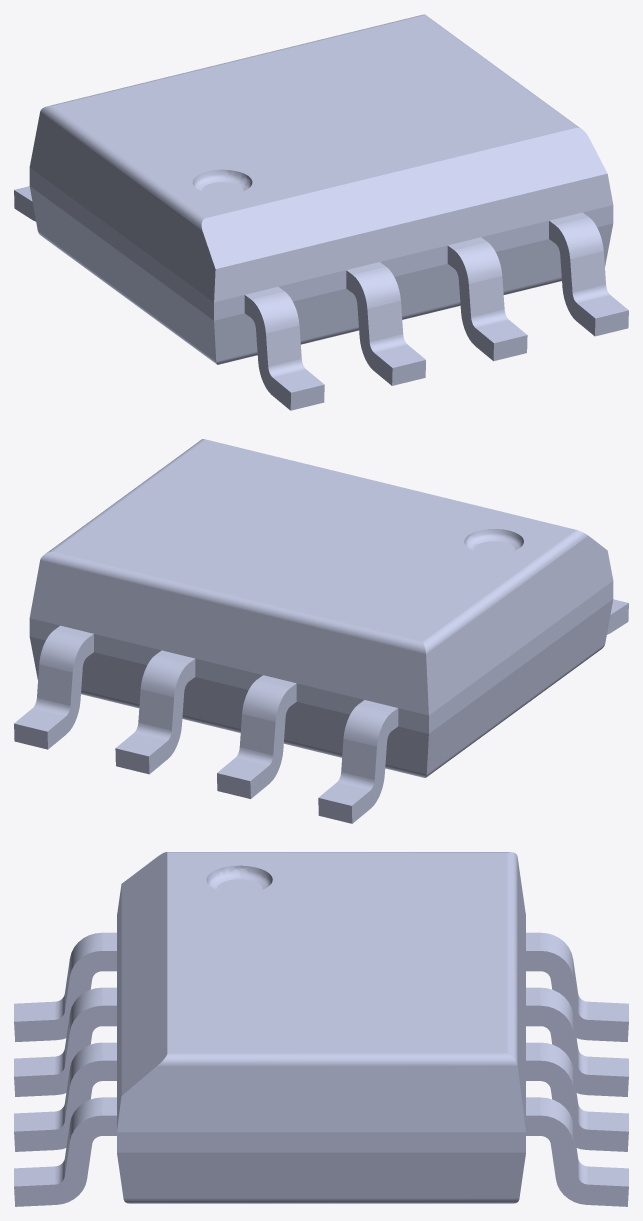
The picture shows the model from 3 angles, top to bottom: view 1: azimuth 30°, elevation 25°; view 2: azimuth 150°, elevation 25°; view 3: azimuth 270°, elevation 25°; orthographic projection. The views are drawn at different scales.
Parts seen in each view (by area): view 1: User Library-SOIC-8_SOIC-8_Body_1, User Library-SOIC-8_SOIC-8_Pins_1(2); view 2: User Library-SOIC-8_SOIC-8_Body_1, User Library-SOIC-8_SOIC-8_Pins_1(2); view 3: User Library-SOIC-8_SOIC-8_Body_1, User Library-SOIC-8_SOIC-8_Pins_1(2).
Part boxes in pixels (x1,y1,x2,y2): User Library-SOIC-8_SOIC-8_Body_1: [29, 14, 613, 364]; User Library-SOIC-8_SOIC-8_Pins_1(2): [14, 186, 628, 410]; User Library-SOIC-8_SOIC-8_Body_1: [29, 439, 613, 777]; User Library-SOIC-8_SOIC-8_Pins_1(2): [14, 599, 628, 823]; User Library-SOIC-8_SOIC-8_Body_1: [117, 852, 525, 1203]; User Library-SOIC-8_SOIC-8_Pins_1(2): [14, 932, 628, 1206].
Bounding box in the file's own units: 5 × 1.75 × 6.01.
